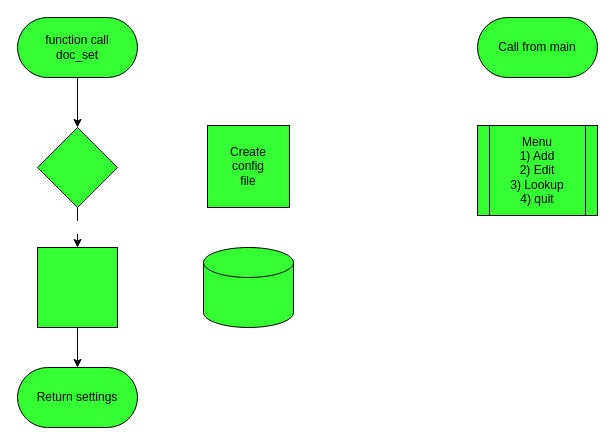
Some shapes in this 615 by 445 pixel diagram are drawn without their labels. The centre of each missing label's shape, as x and y in pixels:
"config" goes at pixel 248 287.
"config exists?" goes at pixel 77 167.
"Open Read Close" goes at pixel 77 287.
